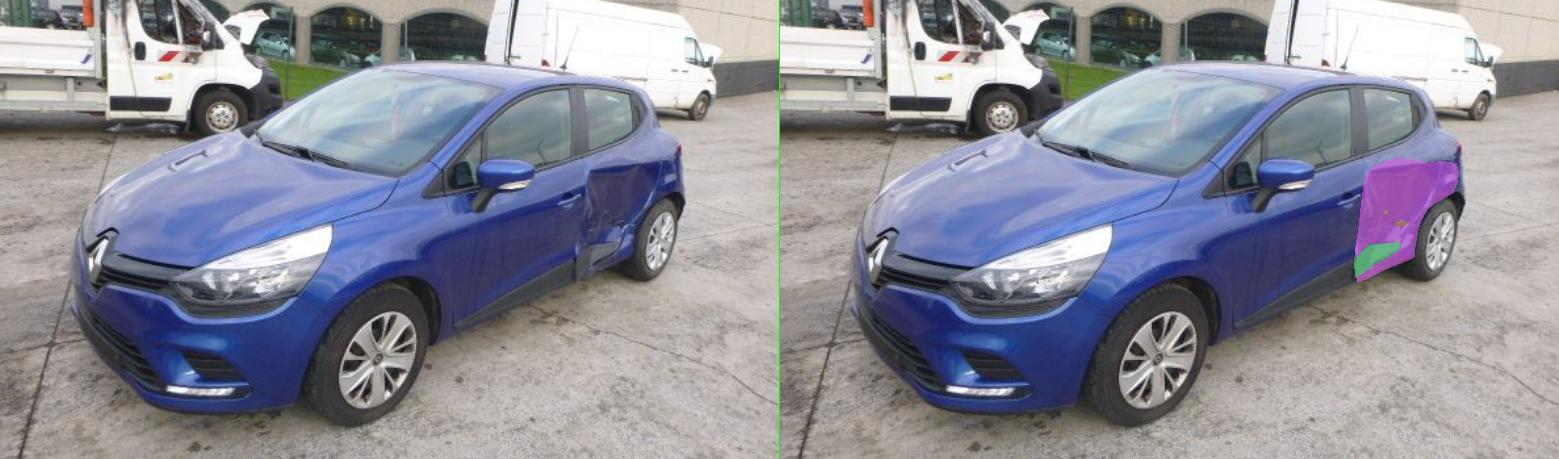Broken part: (1149, 242, 1243, 277)
Dent: (1149, 158, 1357, 281)
Paint chip: (1231, 220, 1257, 226), (1209, 210, 1215, 214)
